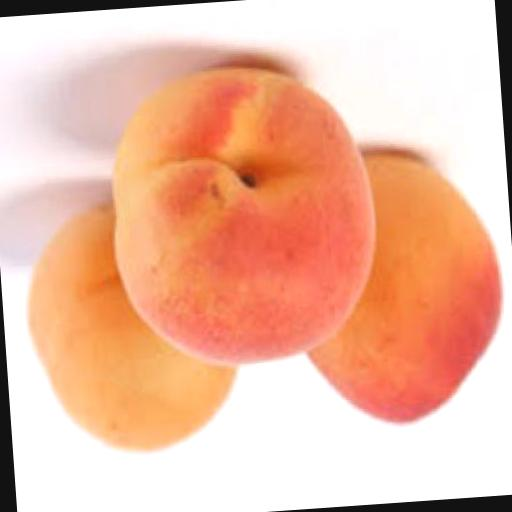biodegradable: (106, 54, 388, 372), (291, 142, 512, 431), (24, 196, 246, 460)
